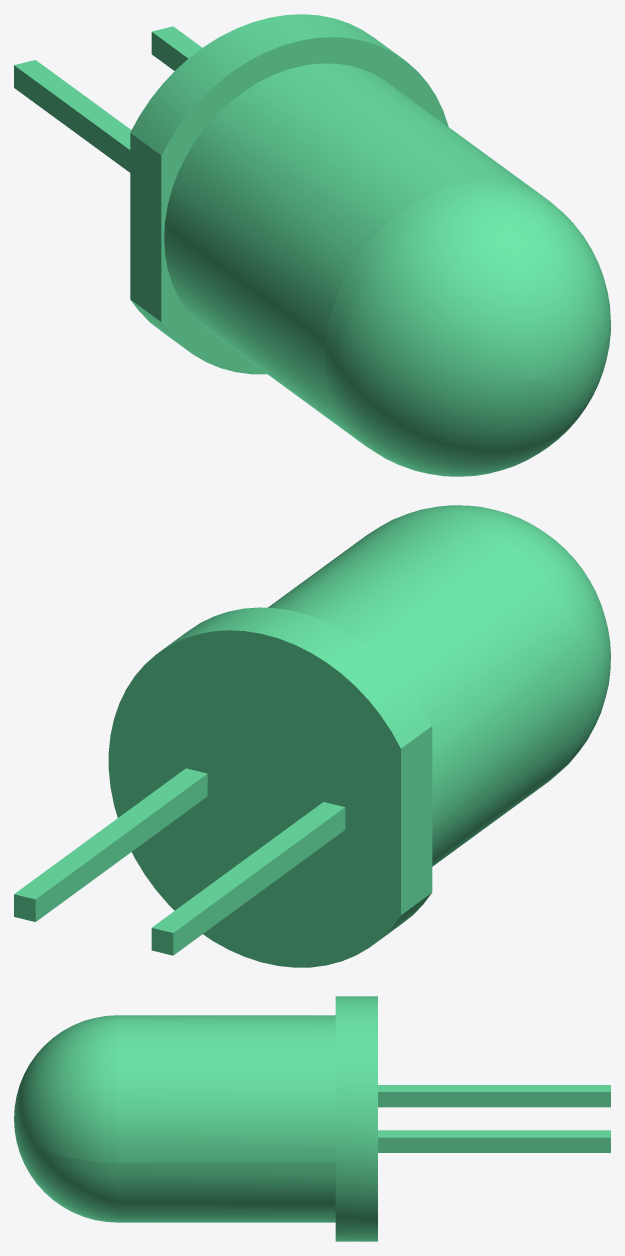
3 renders of one model, top to bottom at view 1: azimuth 30°, elevation 25°; view 2: azimuth 150°, elevation 25°; view 3: azimuth 270°, elevation 25°, orthographic. The views are drawn at different scales.
Visible parts, largest first — view 1: LED_D5.0mm_Green; view 2: LED_D5.0mm_Green; view 3: LED_D5.0mm_Green.
Part boxes in pixels (x1,y1,x2,y2): LED_D5.0mm_Green: [14, 14, 610, 476]; LED_D5.0mm_Green: [14, 505, 610, 967]; LED_D5.0mm_Green: [14, 996, 610, 1241].
Size of the model in its own units: 5.4 by 5.8 by 14.1.
